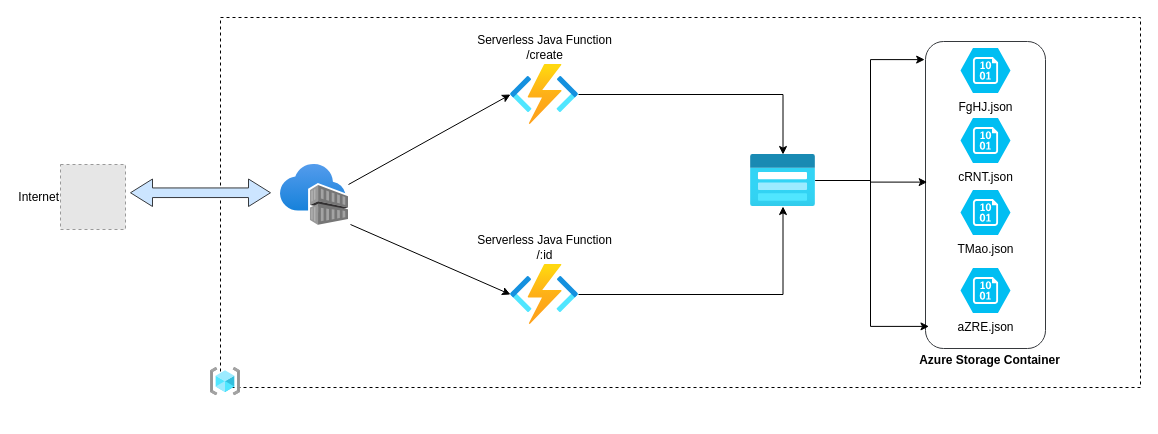
Image size: 1158x434. Some labels were removed from this diagram. Grey dashed boxes stand in for pictures. The centre of each missing label's shape, as x and y in pixels:
Resource Group: [225,381]
Spring Cloud Gateway Container: [314,194]
Storage Account: [782,180]
